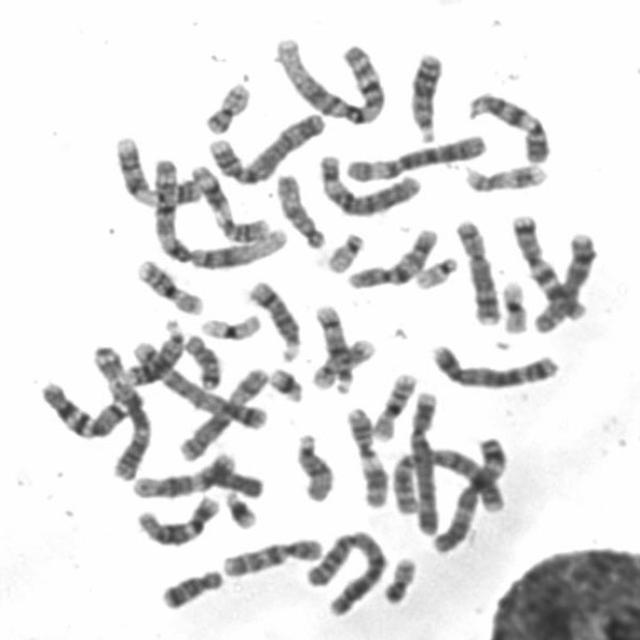A1: (143, 152, 288, 272), (266, 29, 388, 126)
A2: (382, 439, 508, 518), (296, 523, 389, 619)
A3: (424, 430, 511, 555), (86, 337, 156, 482)
B4: (200, 104, 328, 186), (404, 382, 442, 538)
B5: (123, 333, 269, 432), (424, 336, 561, 391)
C10: (340, 221, 441, 291), (215, 529, 325, 580)
C11: (183, 156, 271, 245), (339, 398, 391, 509)
C12: (125, 446, 240, 499), (130, 488, 221, 548)
C6: (339, 125, 489, 183), (311, 146, 424, 217)
C7: (504, 208, 588, 322), (32, 373, 133, 440)
C8: (527, 224, 600, 334), (448, 211, 503, 326)
C9: (107, 127, 205, 207), (460, 85, 552, 165)
D13: (118, 312, 186, 387), (402, 44, 444, 144)
D14: (241, 272, 303, 362), (308, 297, 356, 395)
D15: (269, 166, 328, 250), (288, 426, 337, 503)
E16: (130, 250, 206, 316), (366, 366, 419, 442)
E17: (305, 331, 379, 392), (458, 154, 550, 194)
E18: (153, 560, 226, 611), (177, 326, 224, 391)
F19: (193, 306, 264, 342), (494, 274, 531, 336)
F20: (198, 74, 252, 136), (376, 549, 418, 606)
G21: (262, 359, 306, 404), (218, 484, 260, 530)
G22: (319, 225, 367, 274), (407, 249, 461, 291)
X: (171, 359, 271, 463)
